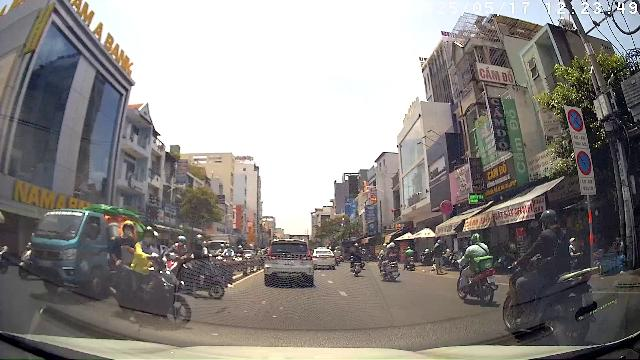130-cam-dung-va-do-xe: (568, 108, 584, 132)
131a-cam-do-xe: (576, 150, 592, 176)
